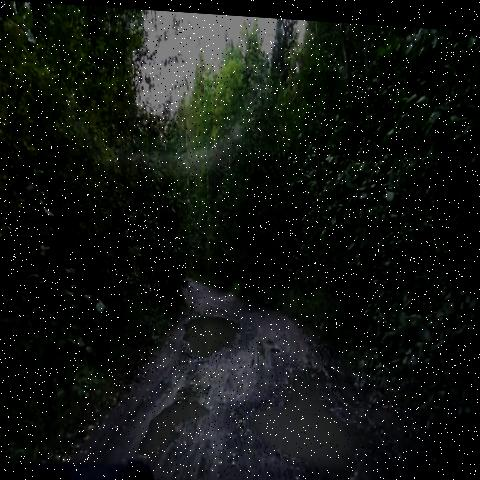pothole: (232, 341, 377, 480), (131, 365, 221, 470), (179, 297, 249, 368)
